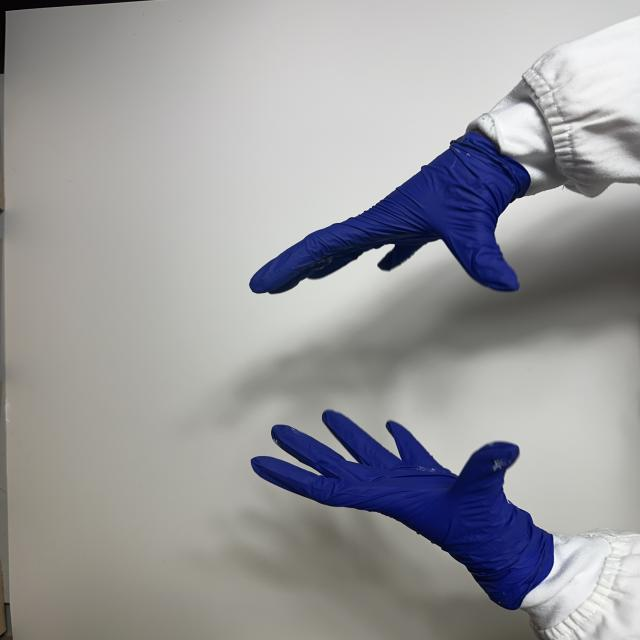gloves_contaminated: (252, 410, 554, 610), (250, 132, 529, 294)
